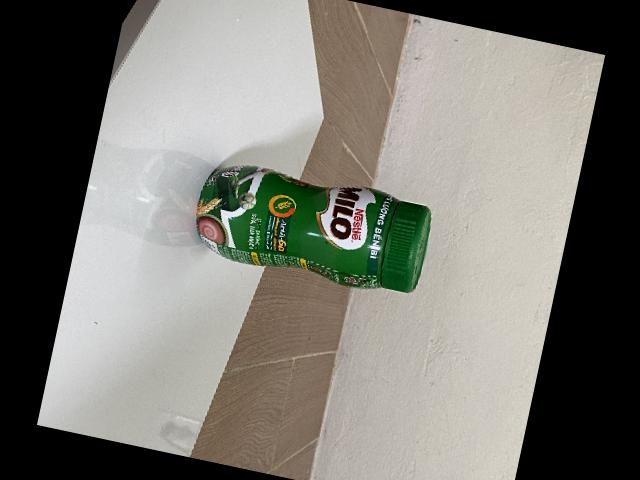milo: (193, 165, 429, 293)
